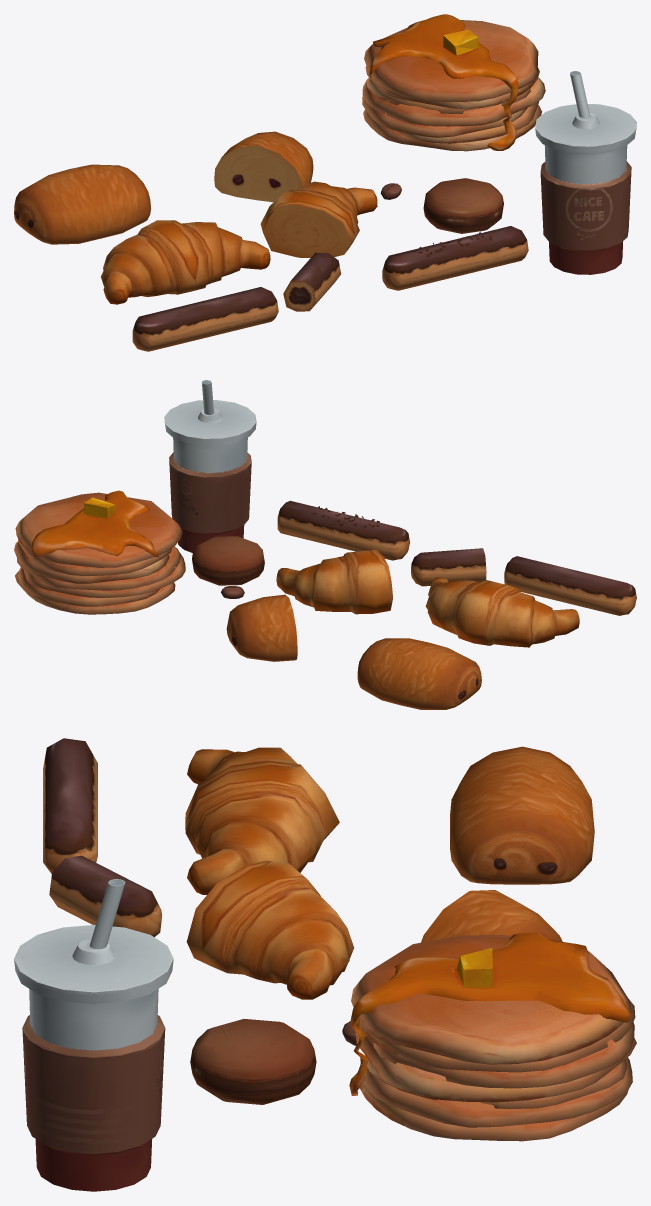
The model's file is pastry.glb.
The picture shows the model from 3 angles, top to bottom: view 1: azimuth 30°, elevation 25°; view 2: azimuth 150°, elevation 25°; view 3: azimuth 270°, elevation 25°; orthographic projection. The views are drawn at different scales.
Visible parts, largest first — view 1: croissanthalf; view 2: croissanthalf; view 3: croissanthalf.
Boxes of the visible parts, x1,y1,x2,y2 form: croissanthalf: (14, 14, 636, 351); croissanthalf: (14, 380, 636, 709); croissanthalf: (14, 738, 636, 1191).
Size of the model in its own units: 1.44 by 0.4691 by 0.9377.
6 materials, 6 textured.
